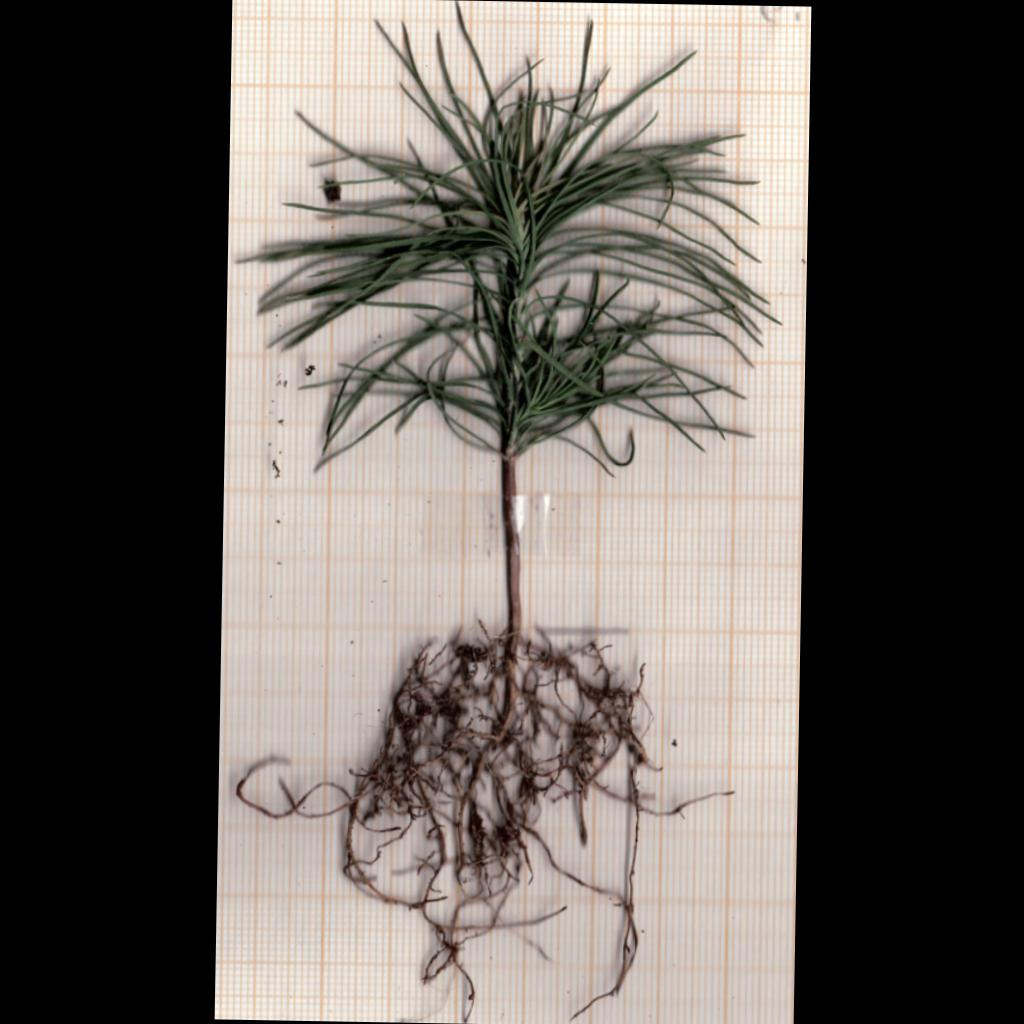flowerCedr: (252, 3, 767, 474)
rootCedr: (237, 627, 718, 1021)
stemCedr: (501, 457, 521, 654)
